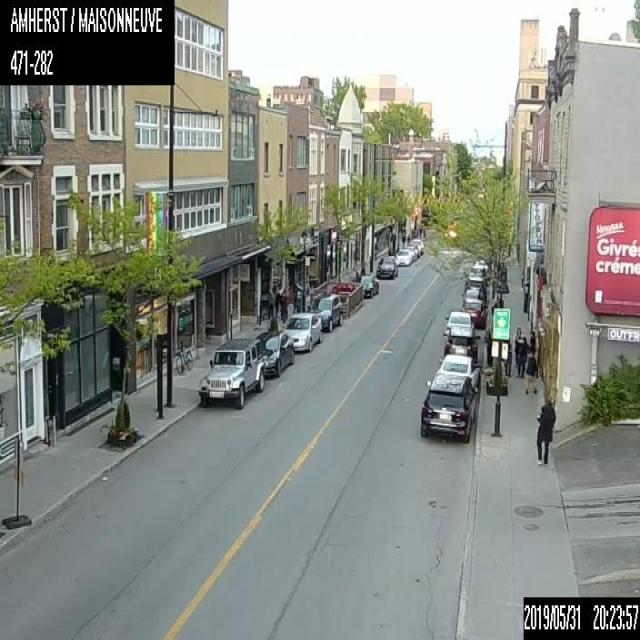pedestrian: (534, 392, 556, 463), (516, 334, 531, 377), (524, 351, 537, 394), (512, 325, 524, 368), (485, 326, 493, 366), (267, 284, 275, 320), (504, 337, 511, 376), (280, 289, 288, 318), (401, 231, 405, 245), (406, 233, 409, 243)
vehicle: (197, 336, 267, 406), (419, 370, 478, 444), (255, 330, 294, 376), (436, 352, 480, 392), (281, 312, 322, 351), (442, 326, 479, 364), (306, 293, 342, 331), (444, 309, 474, 336), (462, 297, 485, 328), (375, 255, 397, 278), (357, 274, 378, 296), (461, 288, 485, 305), (464, 275, 484, 293), (394, 248, 411, 265), (472, 259, 488, 273), (411, 238, 424, 252), (404, 246, 416, 260), (409, 241, 420, 255)
